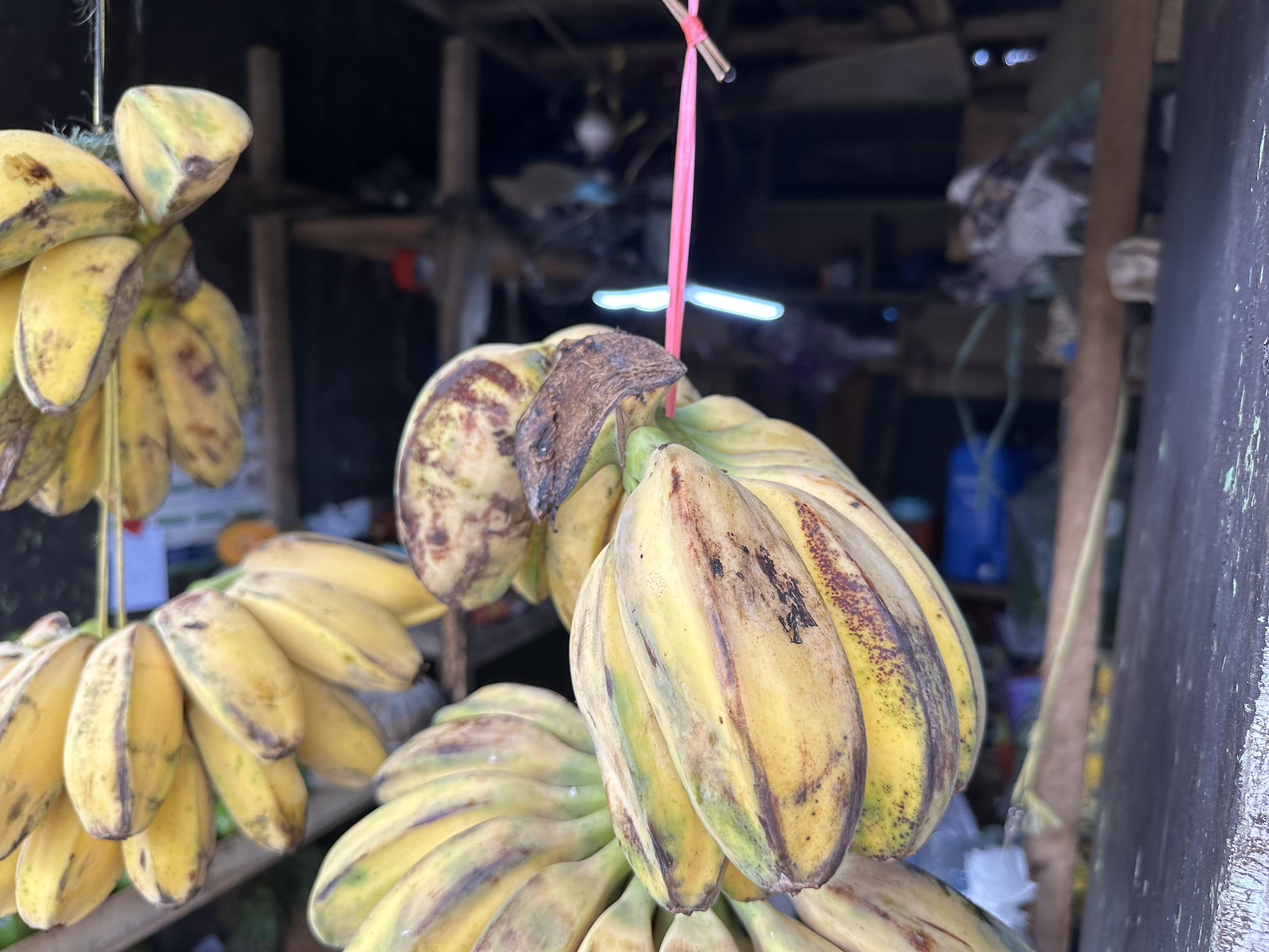ripe: (0, 533, 453, 931)
underripe: (395, 322, 986, 913), (308, 684, 1045, 952), (0, 85, 257, 522)
